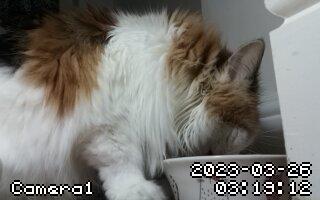clara: (3, 4, 266, 193)
